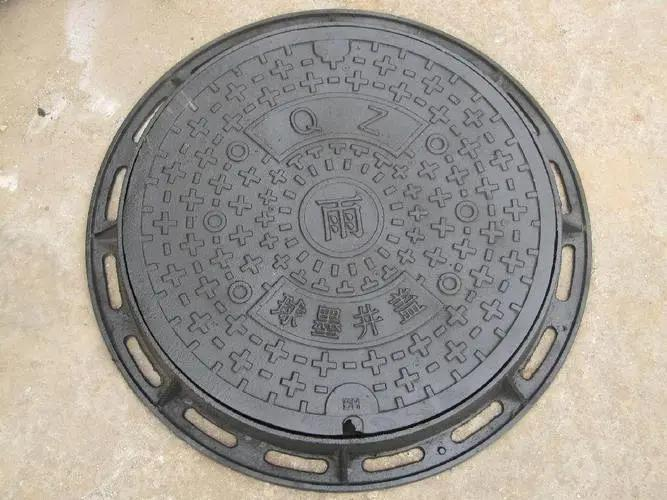wellcover: (79, 0, 597, 498)
